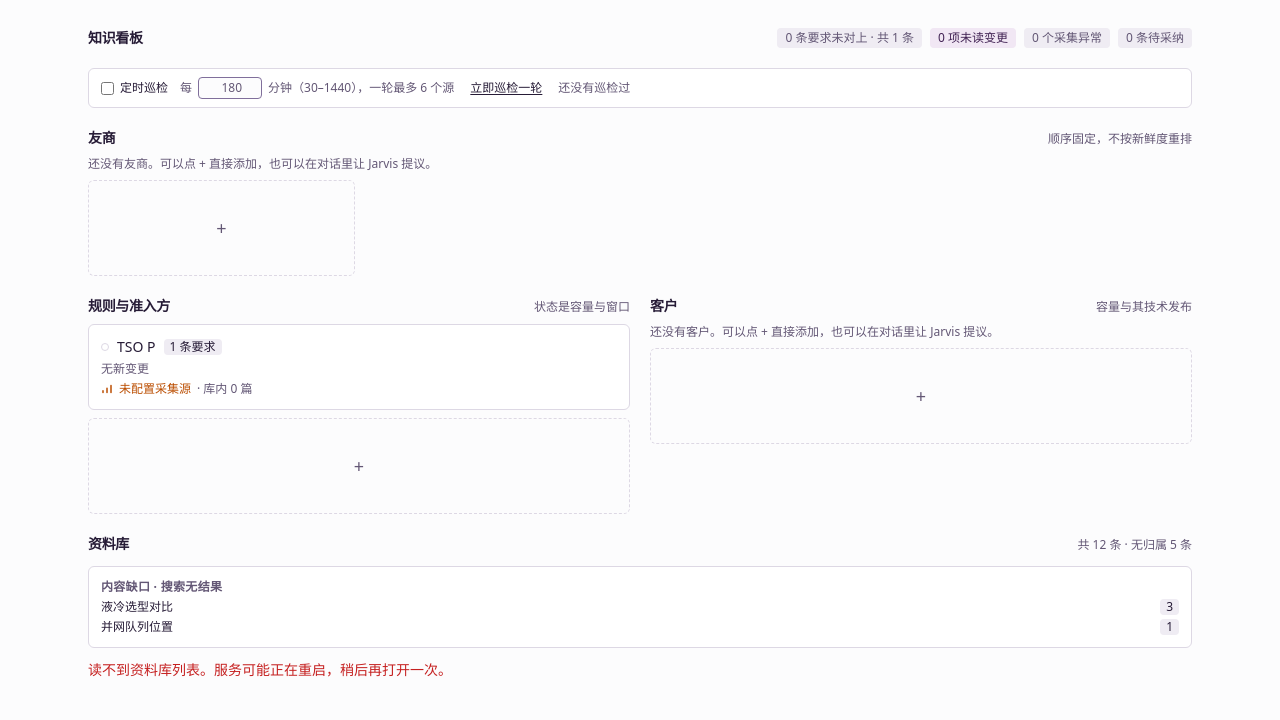
Test: KnowledgeDashboard › ⑮ 技术参数与要求整段不在卡片上，且展开不发任何参数写请求
Click the text "TSO P": (136, 347) [117,337,156,357]
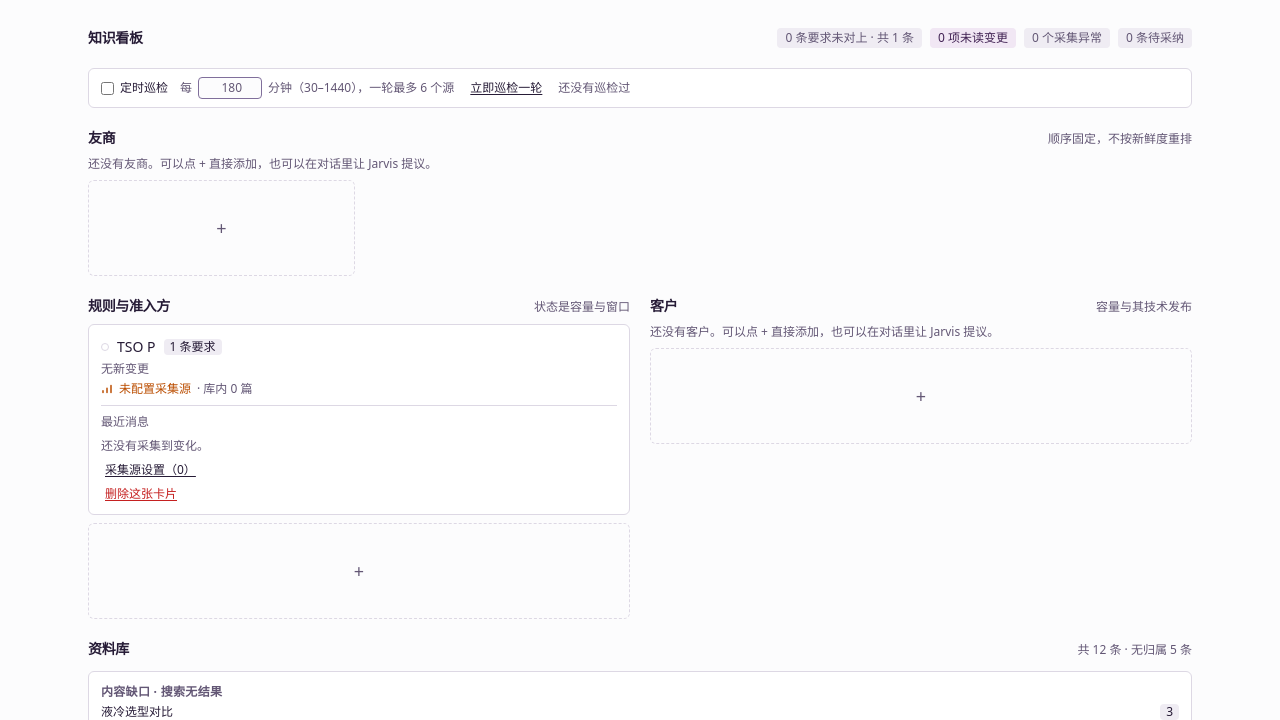
expect the text "最近消息" is shown: met, box [101,413,149,430]
